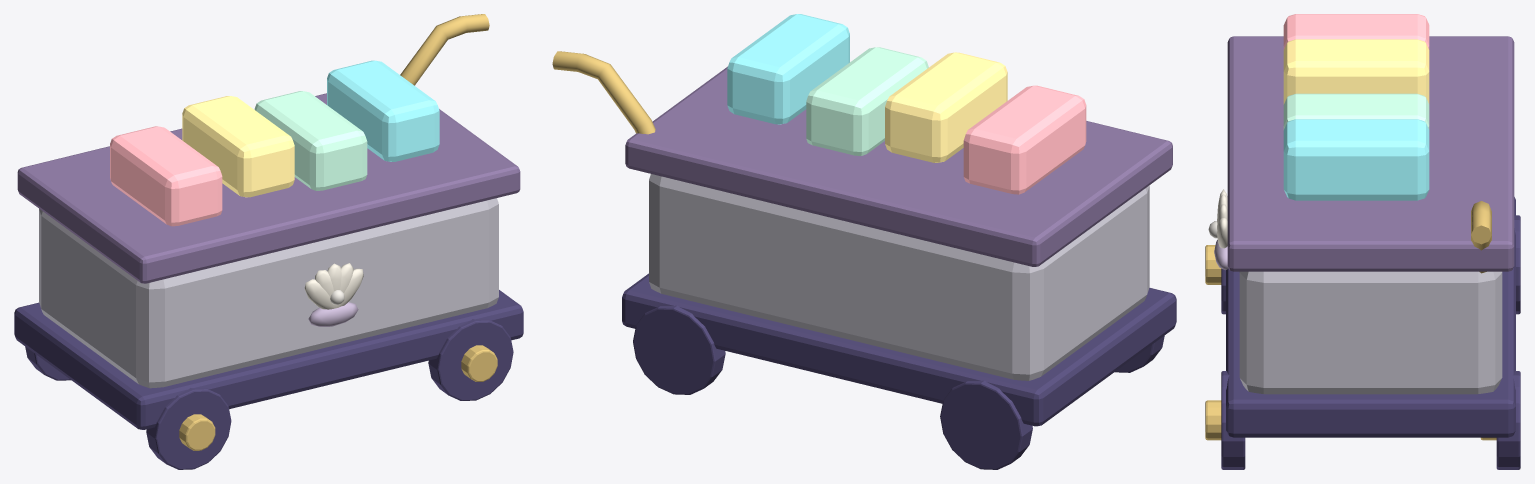
The model's file is pearl_storage_cart.glb.
The picture shows the model from 3 angles, left to right: view 1: azimuth 30°, elevation 25°; view 2: azimuth 150°, elevation 25°; view 3: azimuth 270°, elevation 25°; orthographic projection. The views are drawn at different scales.
Visible parts, largest first — view 1: pearl_storage_cart.001; view 2: pearl_storage_cart.001; view 3: pearl_storage_cart.001.
Boxes of the visible parts, x1,y1,x2,y2 form: pearl_storage_cart.001: [14, 14, 523, 469]; pearl_storage_cart.001: [552, 14, 1176, 469]; pearl_storage_cart.001: [1205, 14, 1520, 469].
Bounding box in the file's own units: 7.47 × 4.37 × 3.94.
